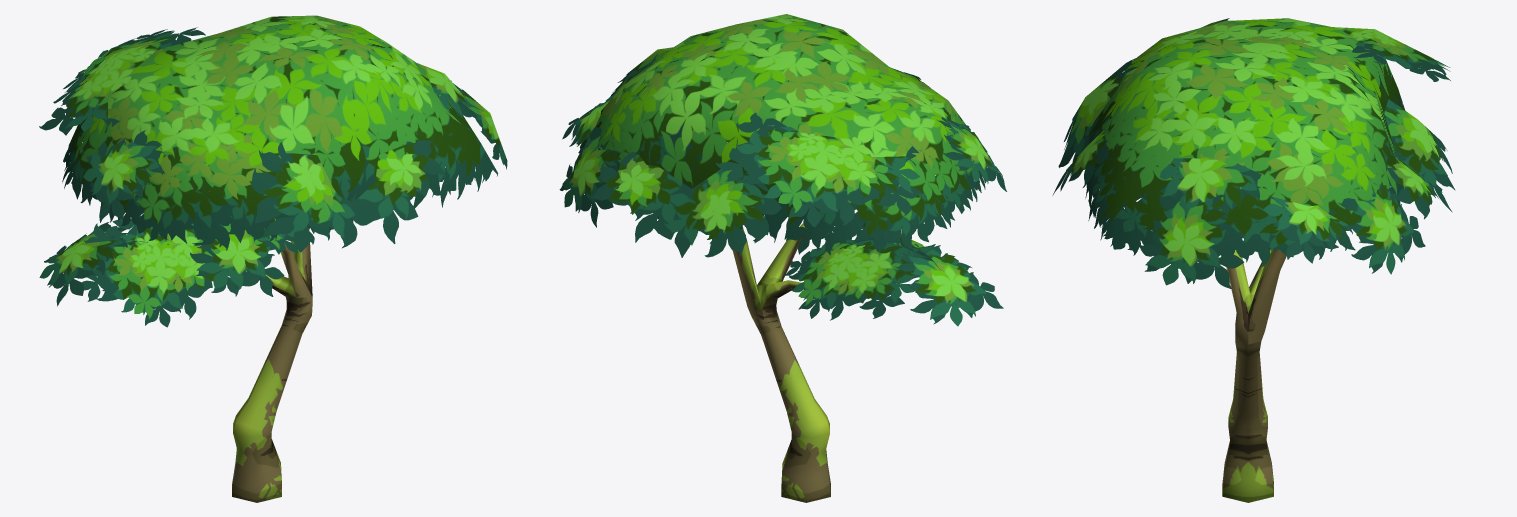
File: F_W_O_tree_003.fbx
3 views of the same model, side by side, from view 1: azimuth 30°, elevation 25°; view 2: azimuth 150°, elevation 25°; view 3: azimuth 270°, elevation 25° (orthographic). The views are drawn at different scales.
Parts seen in each view (by area): view 1: F_W_O_tree_003; view 2: F_W_O_tree_003; view 3: F_W_O_tree_003.
Part boxes in pixels (bbox=[...]): F_W_O_tree_003: bbox=[39, 15, 507, 502]; F_W_O_tree_003: bbox=[559, 14, 1006, 502]; F_W_O_tree_003: bbox=[1052, 18, 1455, 502].
Bounding box in the file's own units: 17.93 × 17.36 × 15.73.
